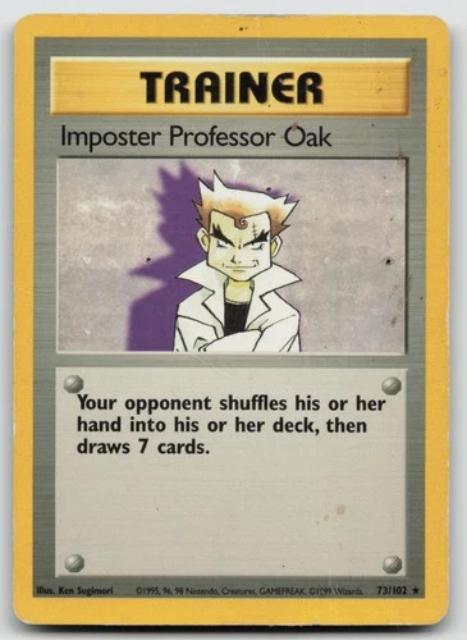Card: (4, 8, 456, 630)
Name: (49, 118, 339, 156)
